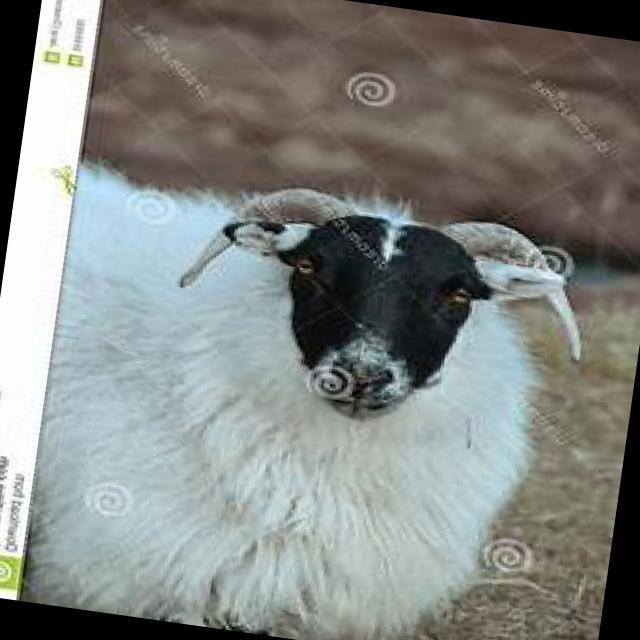animal: (27, 95, 600, 640)
